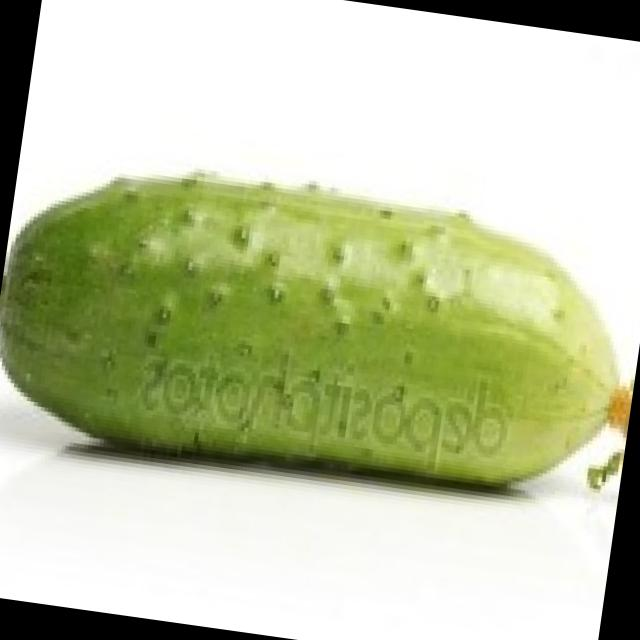cucumber: (0, 140, 640, 526)
